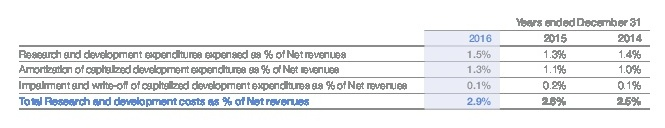table: (0, 0, 665, 128)
